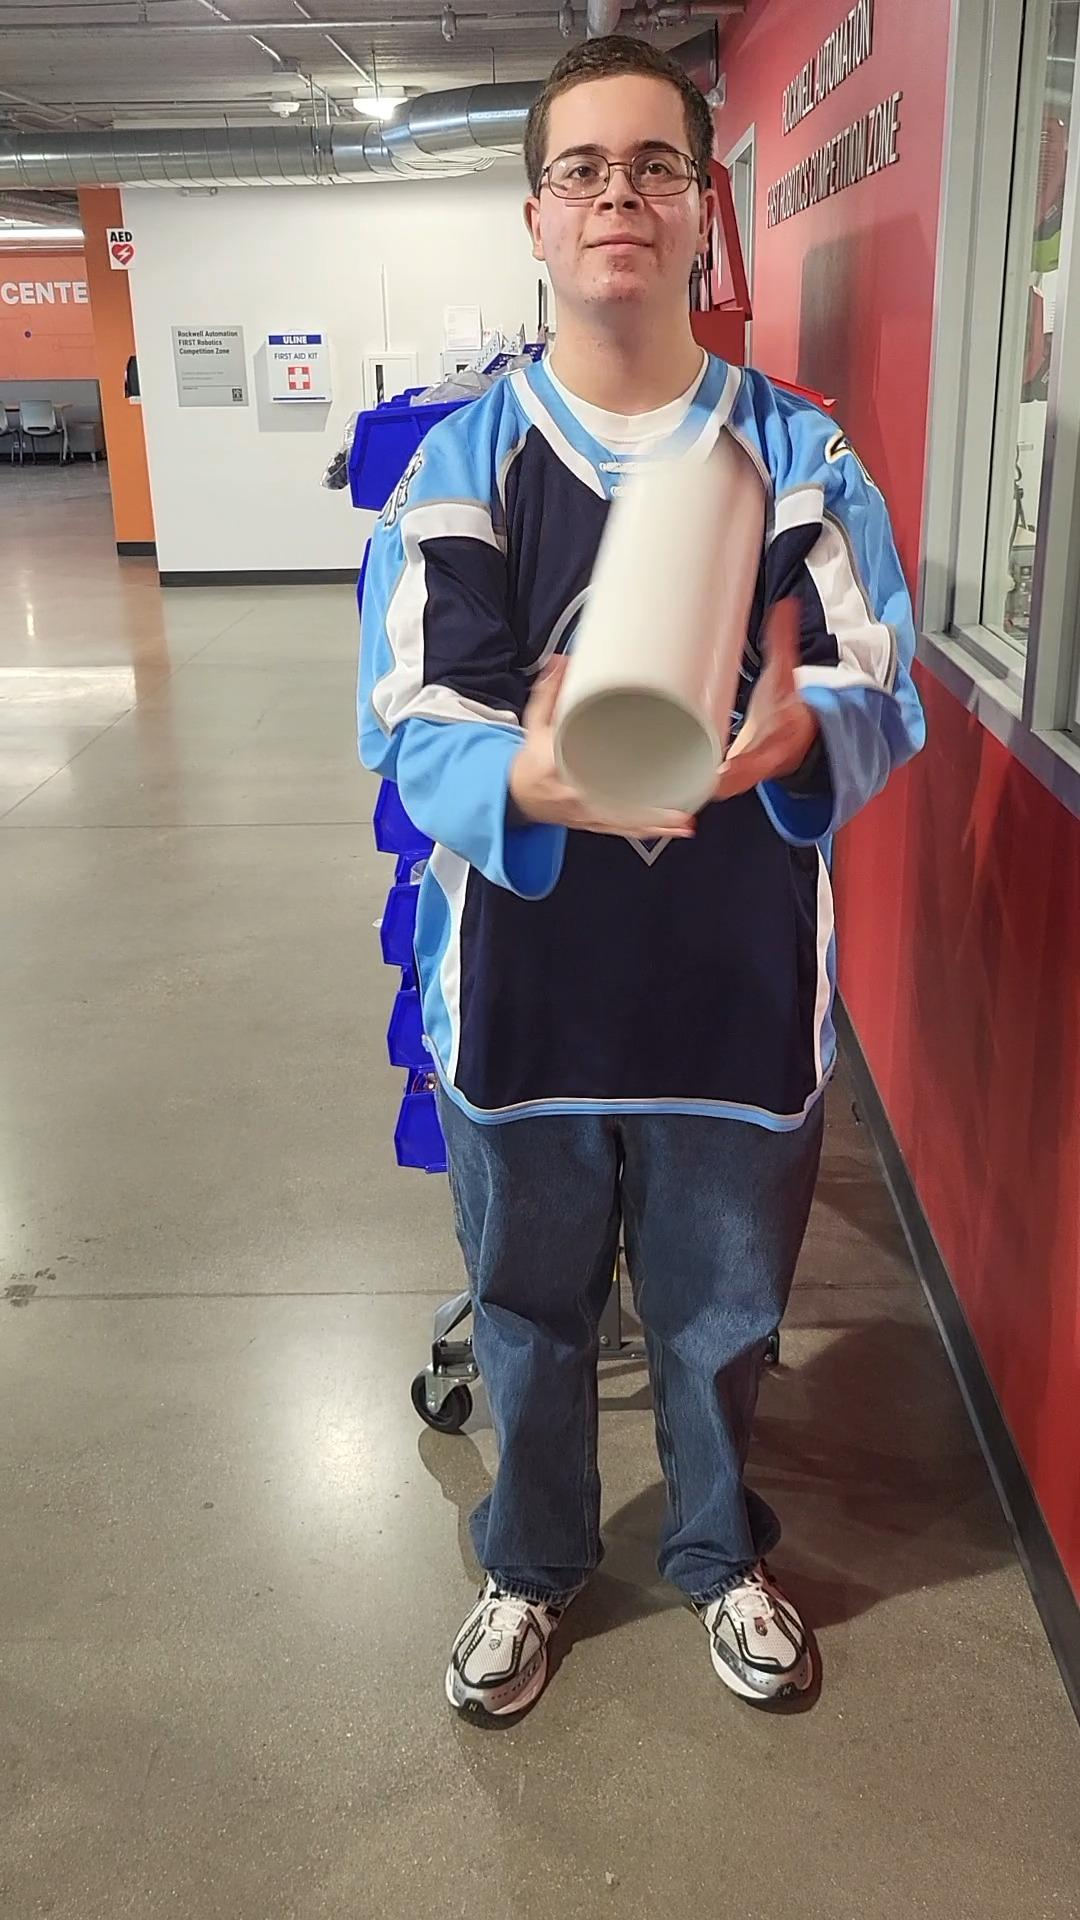coral: (554, 421, 783, 836)
